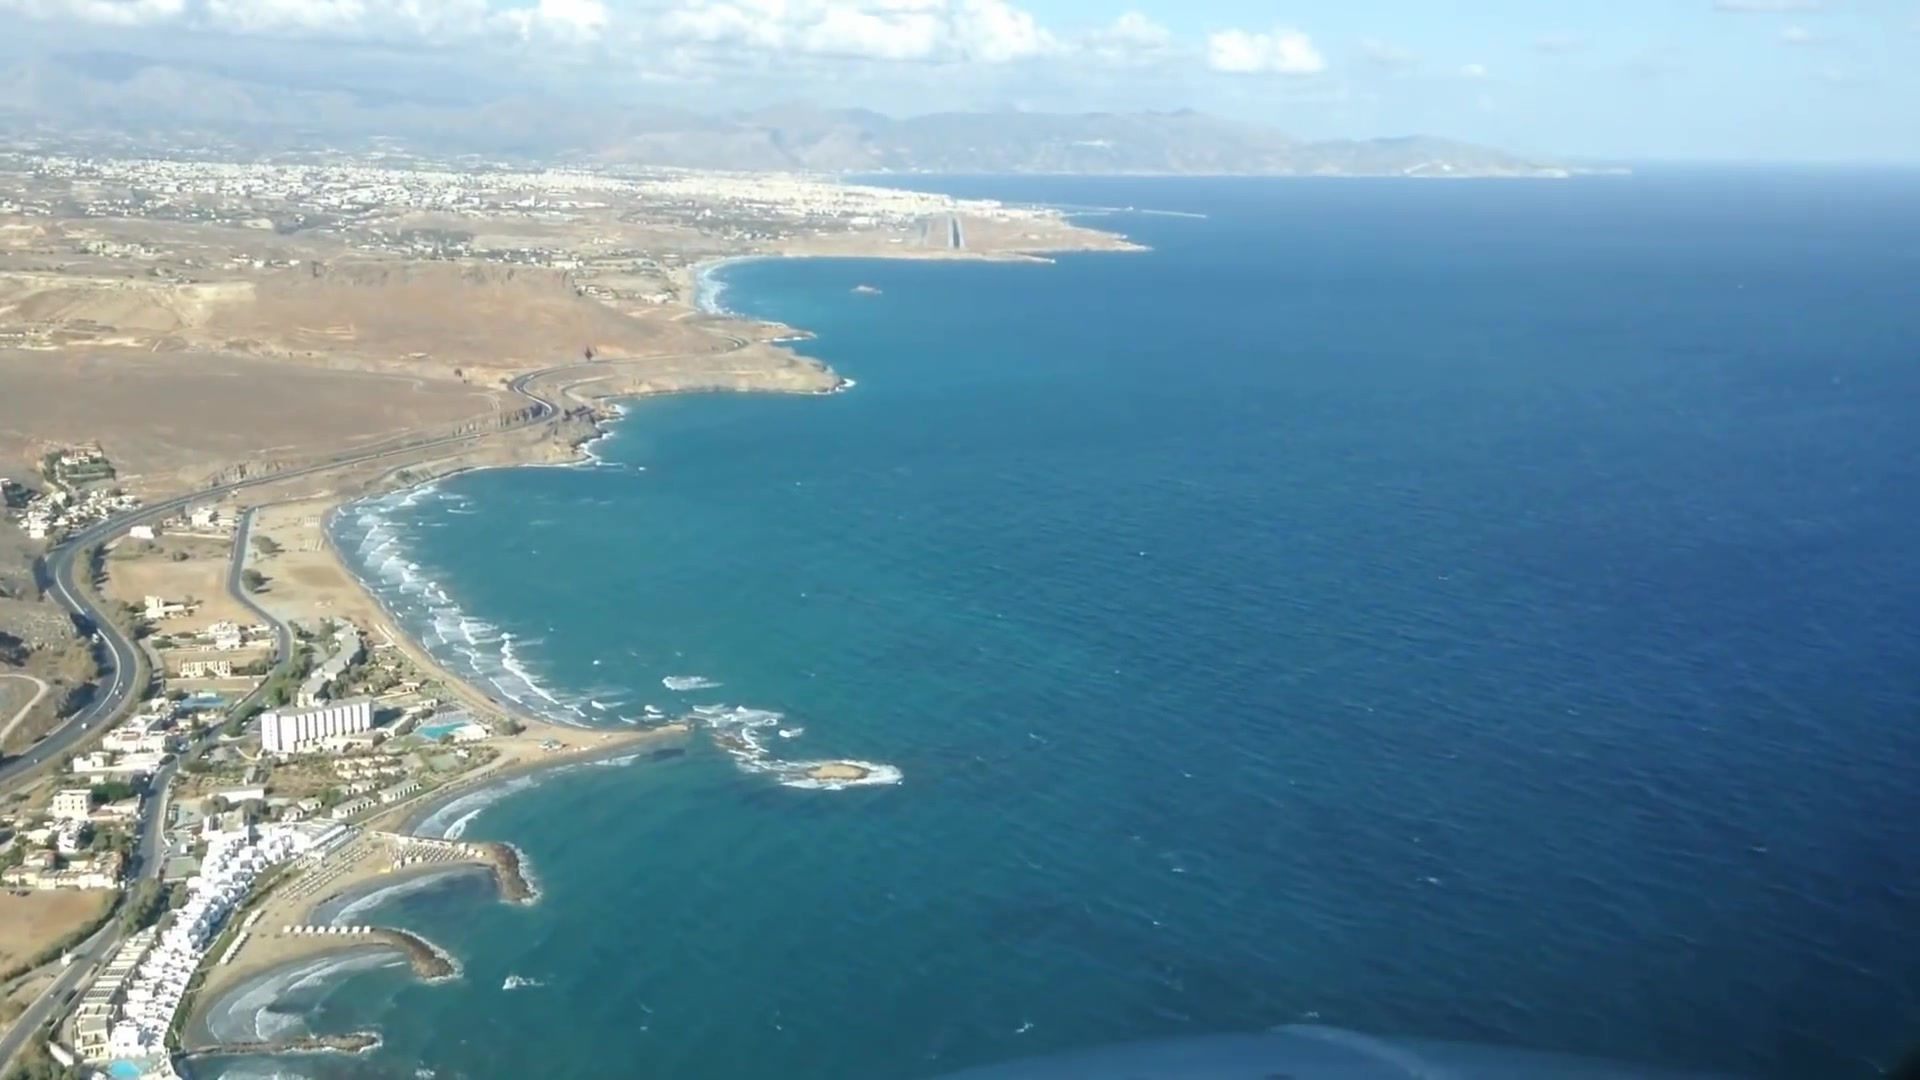runway: (943, 214, 968, 252)
